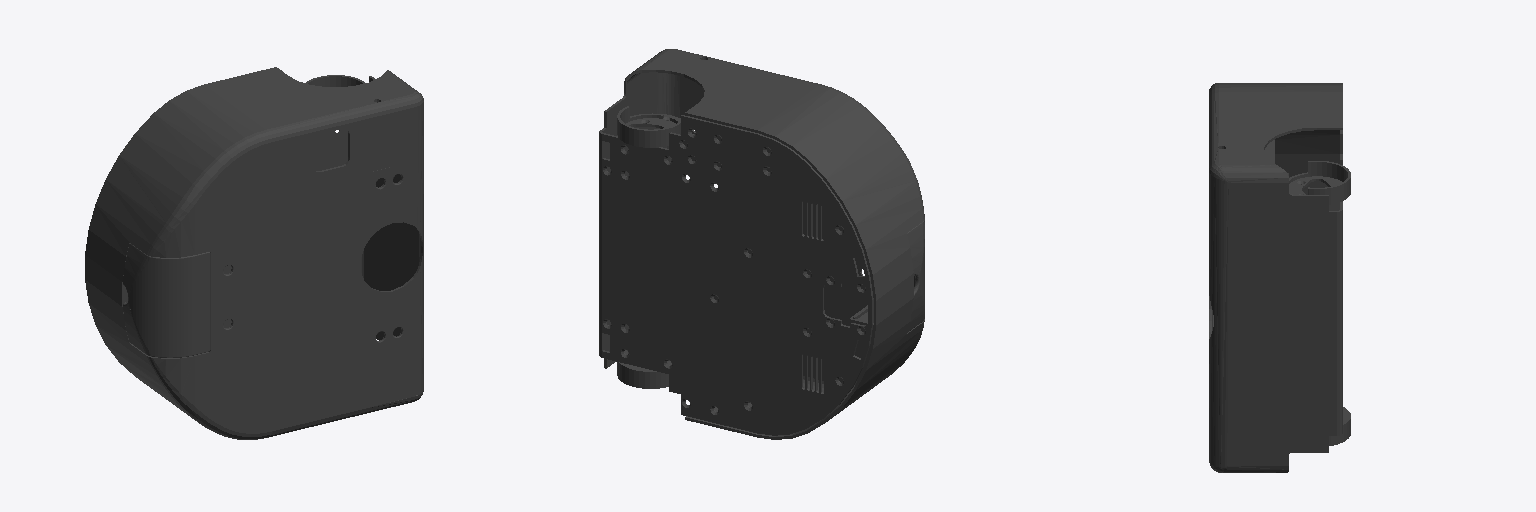
The picture shows the model from 3 angles: view 1: azimuth 30°, elevation 25°; view 2: azimuth 150°, elevation 25°; view 3: azimuth 270°, elevation 25°; orthographic projection.
Visible parts, largest first — view 1: Base_Link.001; view 2: Base_Link.001; view 3: Base_Link.001.
Boxes of the visible parts, x1=… form: Base_Link.001: x1=85, y1=67, x2=423, y2=439; Base_Link.001: x1=599, y1=49, x2=924, y2=439; Base_Link.001: x1=1209, y1=83, x2=1350, y2=472.
Size of the model in its own units: 0.3245 by 0.341 by 0.1432.